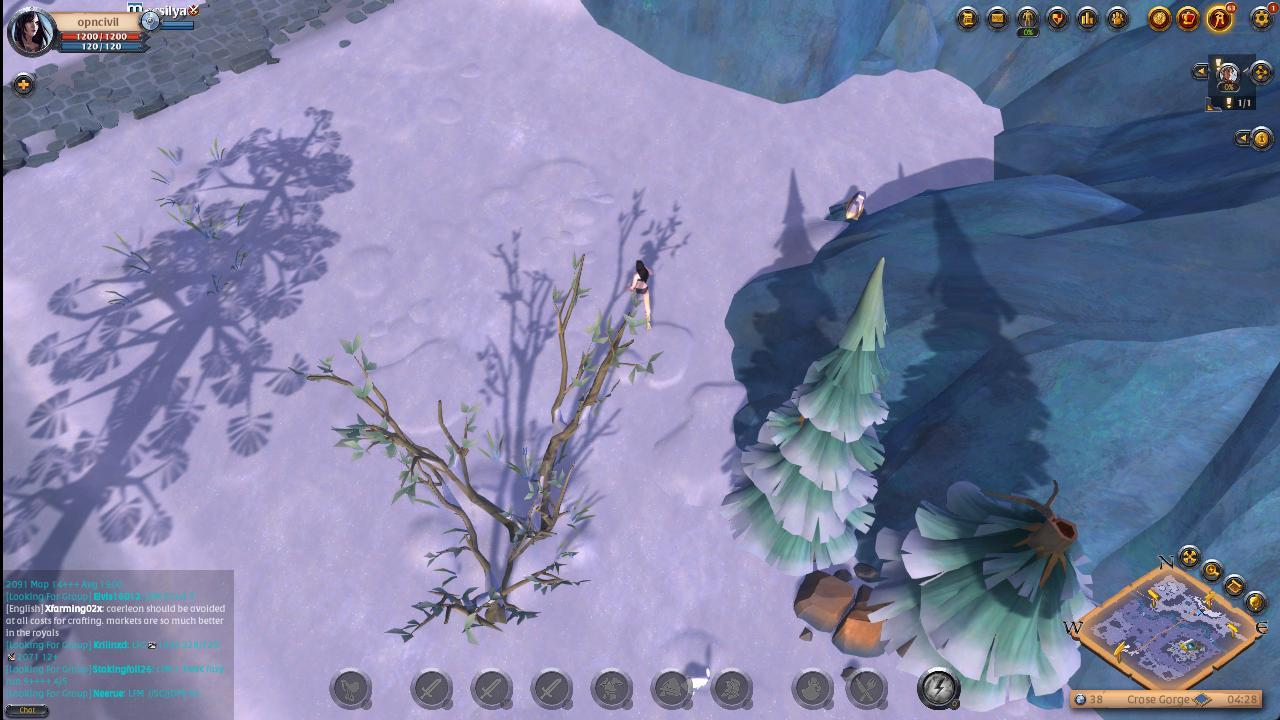copper_ore: (824, 189, 870, 230)
limestone: (790, 559, 903, 661)
